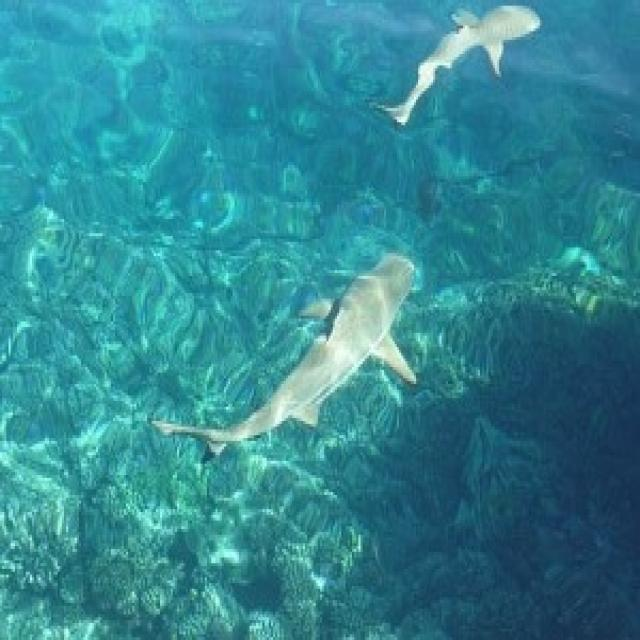Shark: (151, 248, 445, 461), (369, 2, 542, 130)
